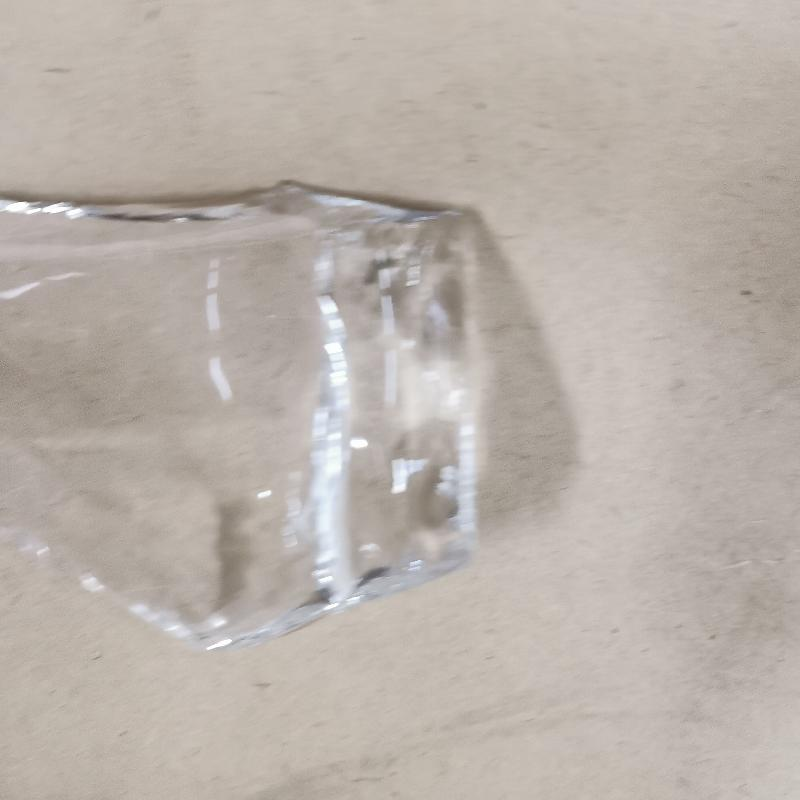glass: (3, 177, 483, 647)
